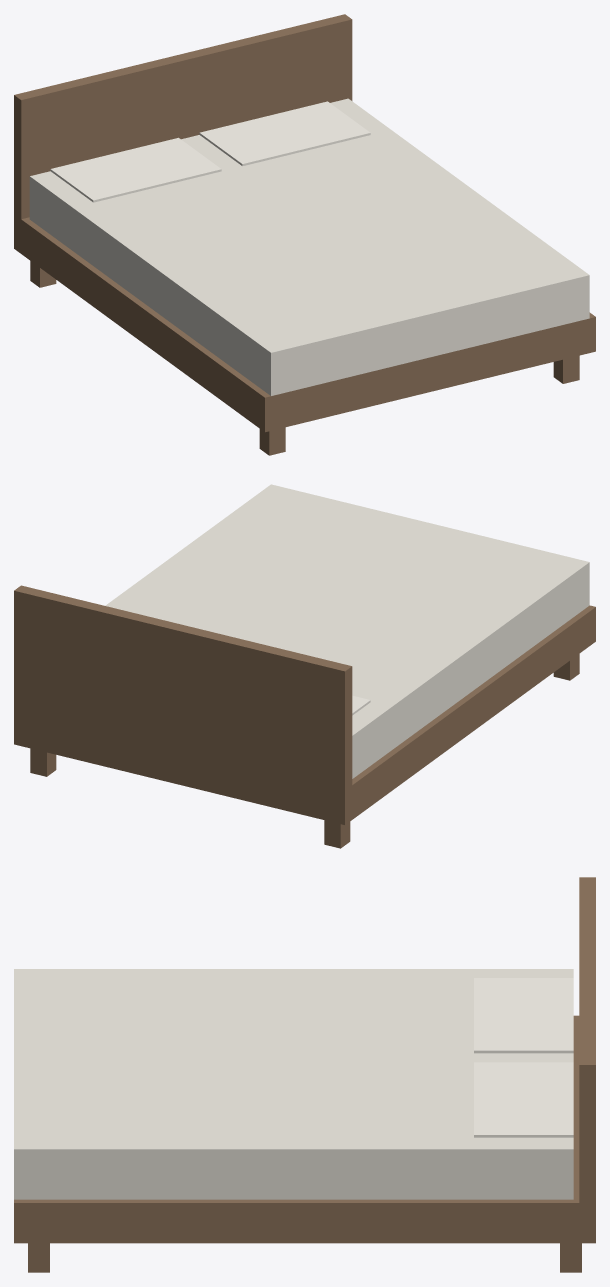
File: bed.glb
3 renders of one model, top to bottom at view 1: azimuth 30°, elevation 25°; view 2: azimuth 150°, elevation 25°; view 3: azimuth 270°, elevation 25°, orthographic. The views are drawn at different scales.
Parts seen in each view (by area): view 1: bed; view 2: bed; view 3: bed.
Boxes of the visible parts, bbox=[...] form: bed: bbox=[14, 14, 595, 455]; bed: bbox=[14, 484, 595, 848]; bed: bbox=[14, 877, 595, 1272].
Bounding box in the file's own units: 160 × 85 × 210.
